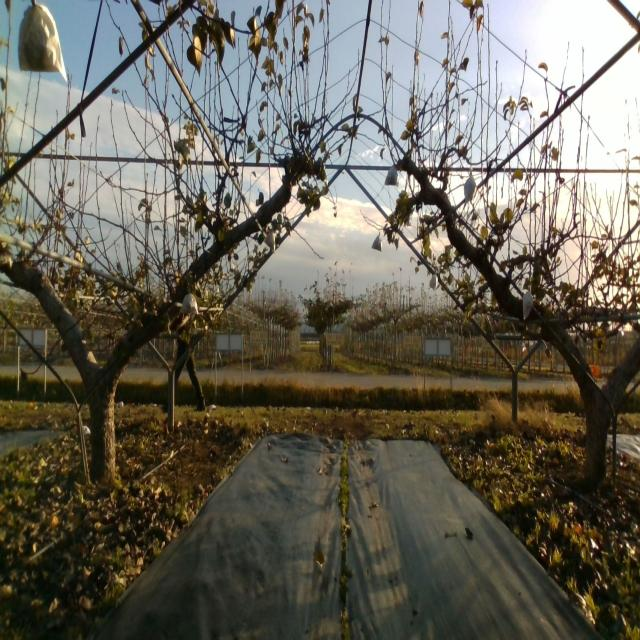pearbags: (18, 1, 68, 84), (179, 288, 199, 317), (464, 168, 478, 203), (521, 286, 533, 319), (384, 167, 400, 186), (264, 230, 276, 252), (428, 269, 439, 290), (371, 232, 381, 252)
